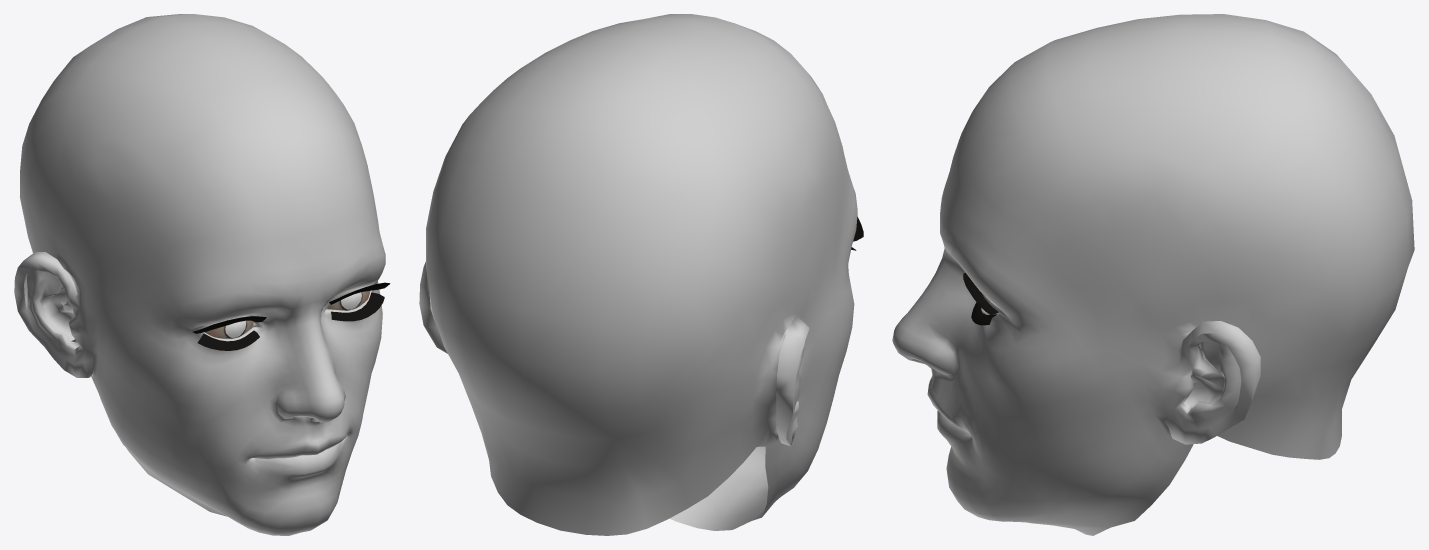
File: Male.obj
The picture shows the model from 3 angles, left to right: view 1: azimuth 30°, elevation 25°; view 2: azimuth 150°, elevation 25°; view 3: azimuth 270°, elevation 25°; orthographic projection. The views are drawn at different scales.
Visible parts, largest first — view 1: Head, rEye, lEye; view 2: Head; view 3: Head.
Part boxes in pixels (<box>): Head: <box>14,14,390,535</box>; rEye: <box>204,320,253,338</box>; lEye: <box>327,291,370,310</box>; Head: <box>419,14,863,535</box>; Head: <box>892,14,1414,535</box>.
Bounding box in the file's own units: 18.47 × 24.67 × 23.42.
